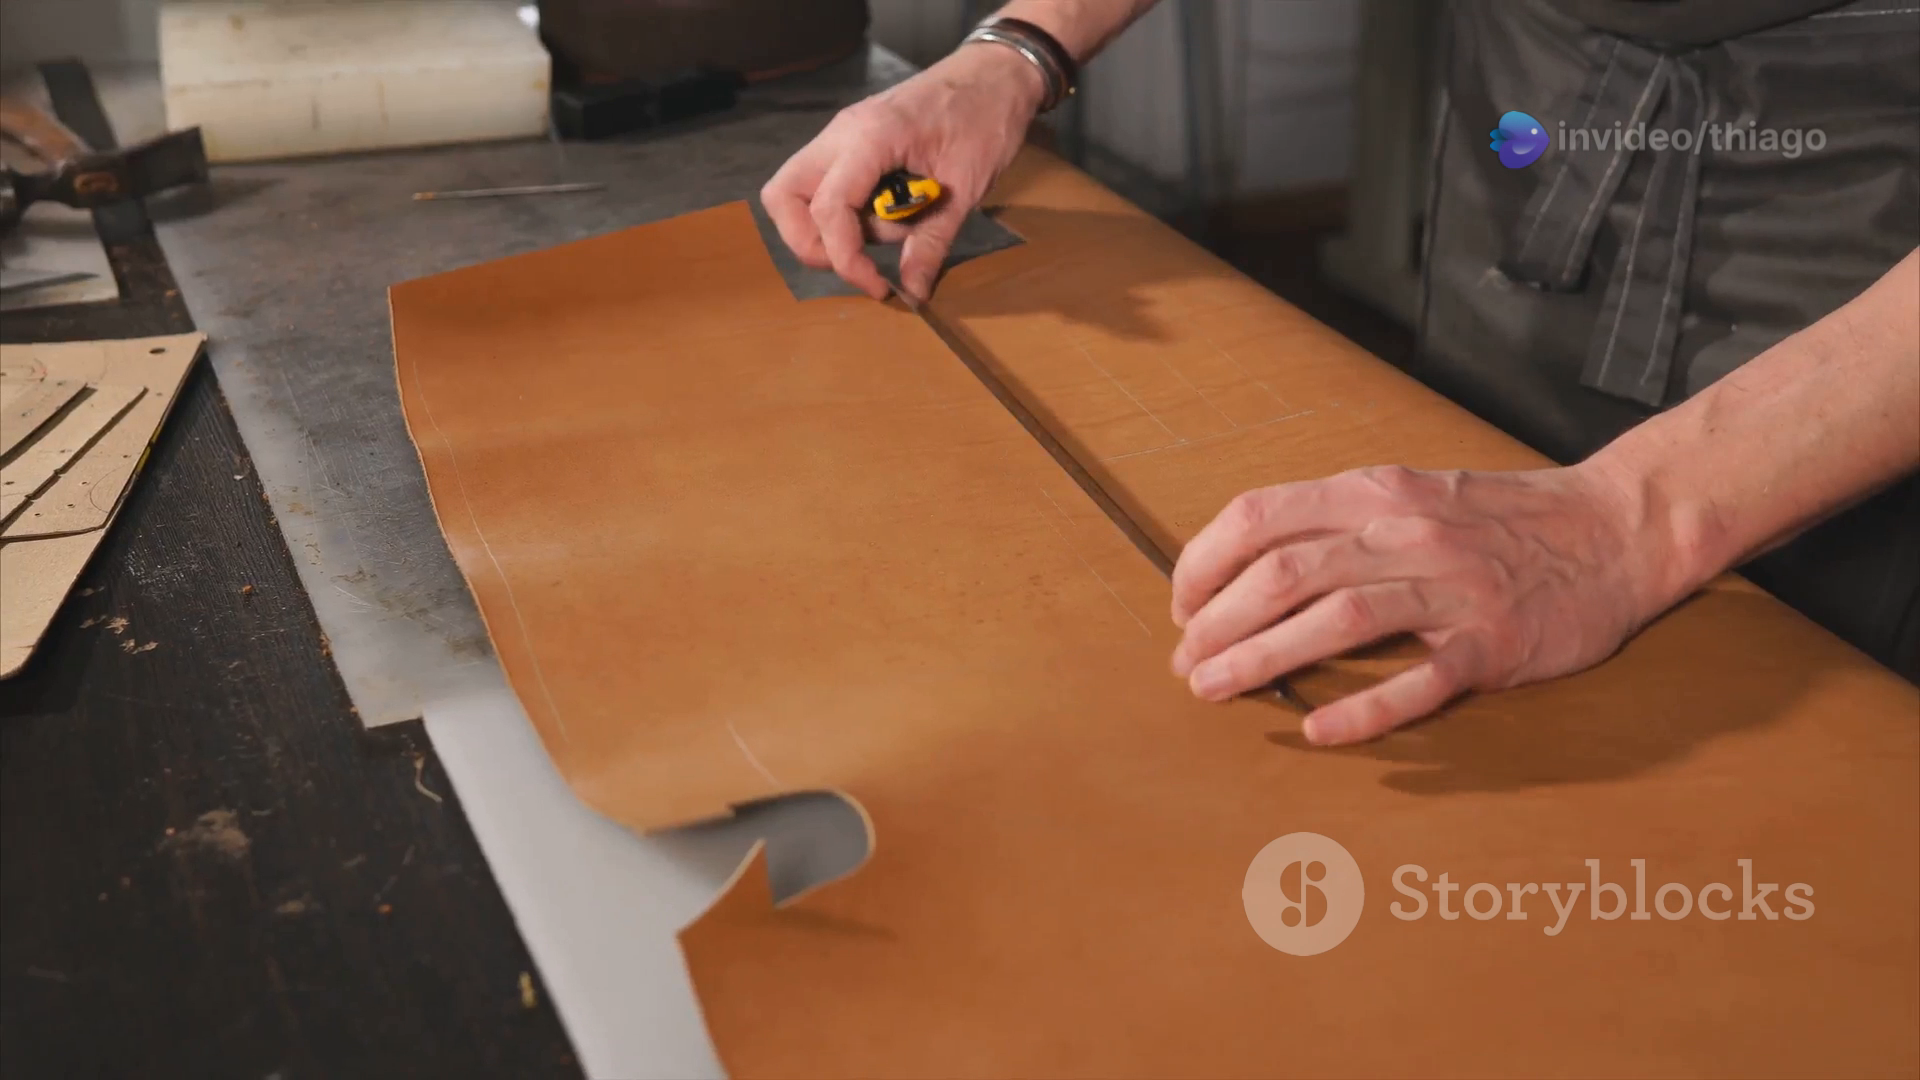cortante: (882, 191, 935, 220)
